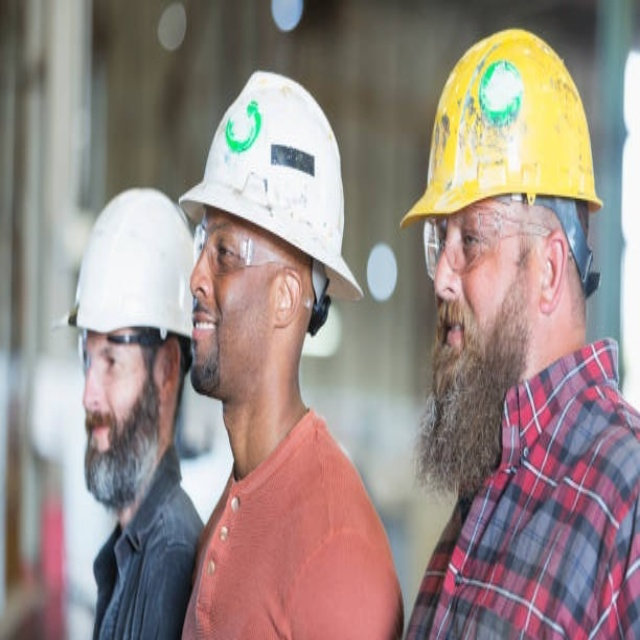Gafas: (418, 204, 555, 265), (189, 219, 285, 280), (76, 321, 164, 369)
Sin_mascara: (434, 286, 487, 388), (82, 406, 128, 484), (188, 301, 229, 384)
